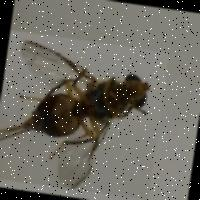Oriental-fruit-fly: (0, 29, 167, 199)
